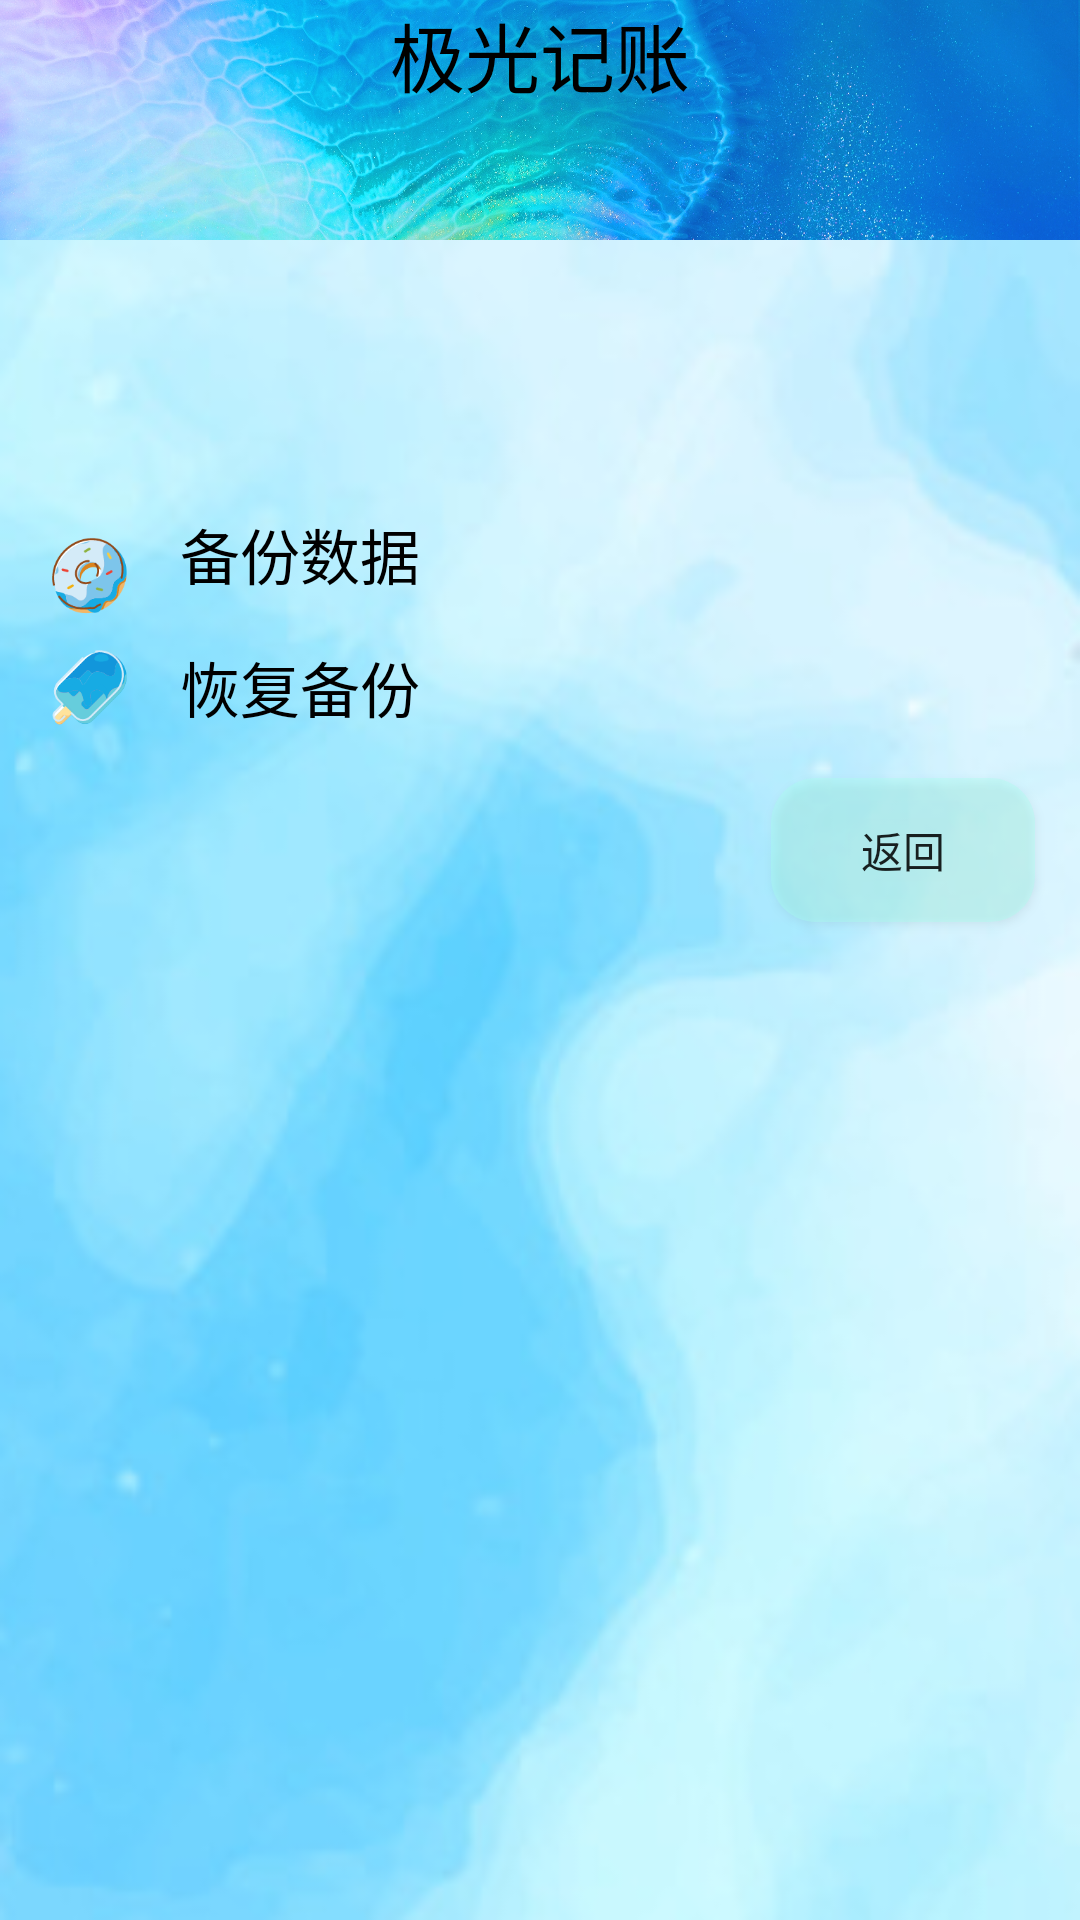

Icon click points for this 1080 x 1920 phone screenshot, format (x,y):
bangbing: (89,687)
tiantianquan: (90,576)
